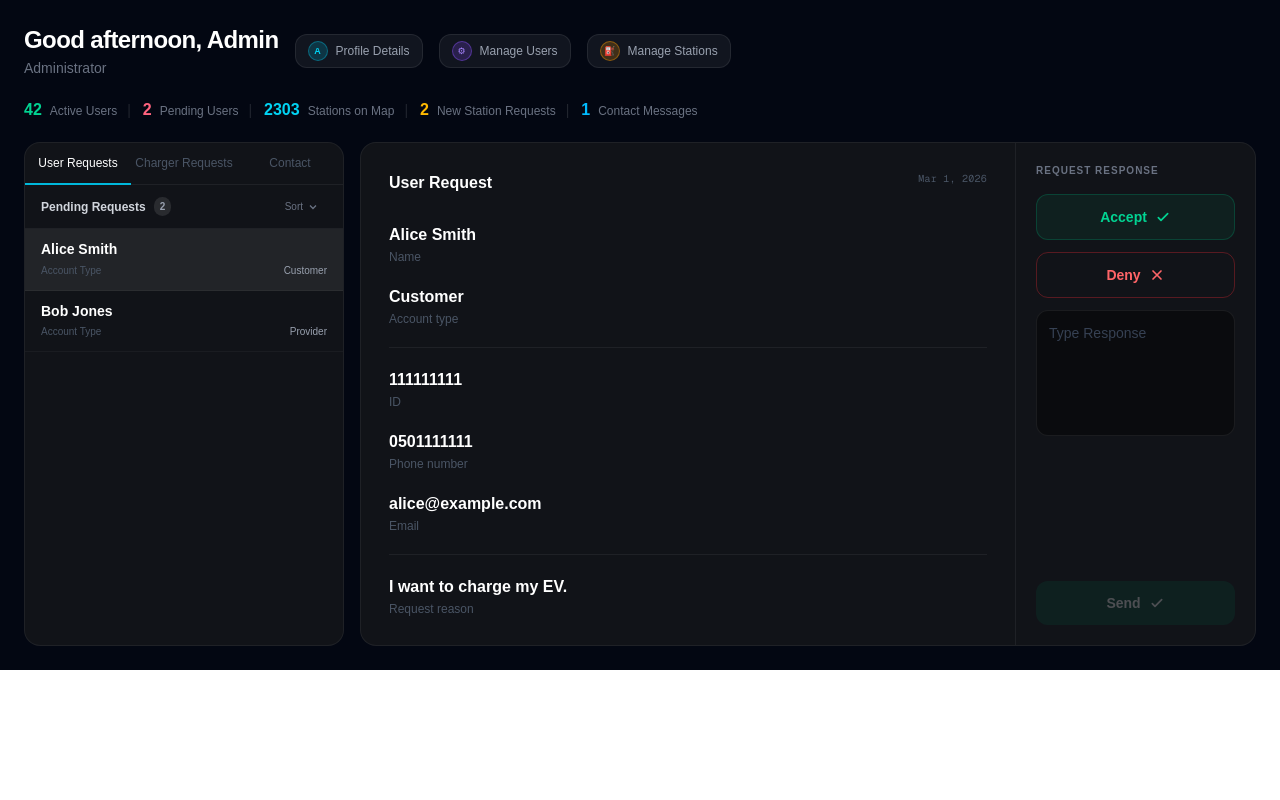
Test: user actions › Send button becomes enabled after clicking Accept
Click the button "Accept" at coordinates (1136, 217), box [1036, 194, 1235, 240]
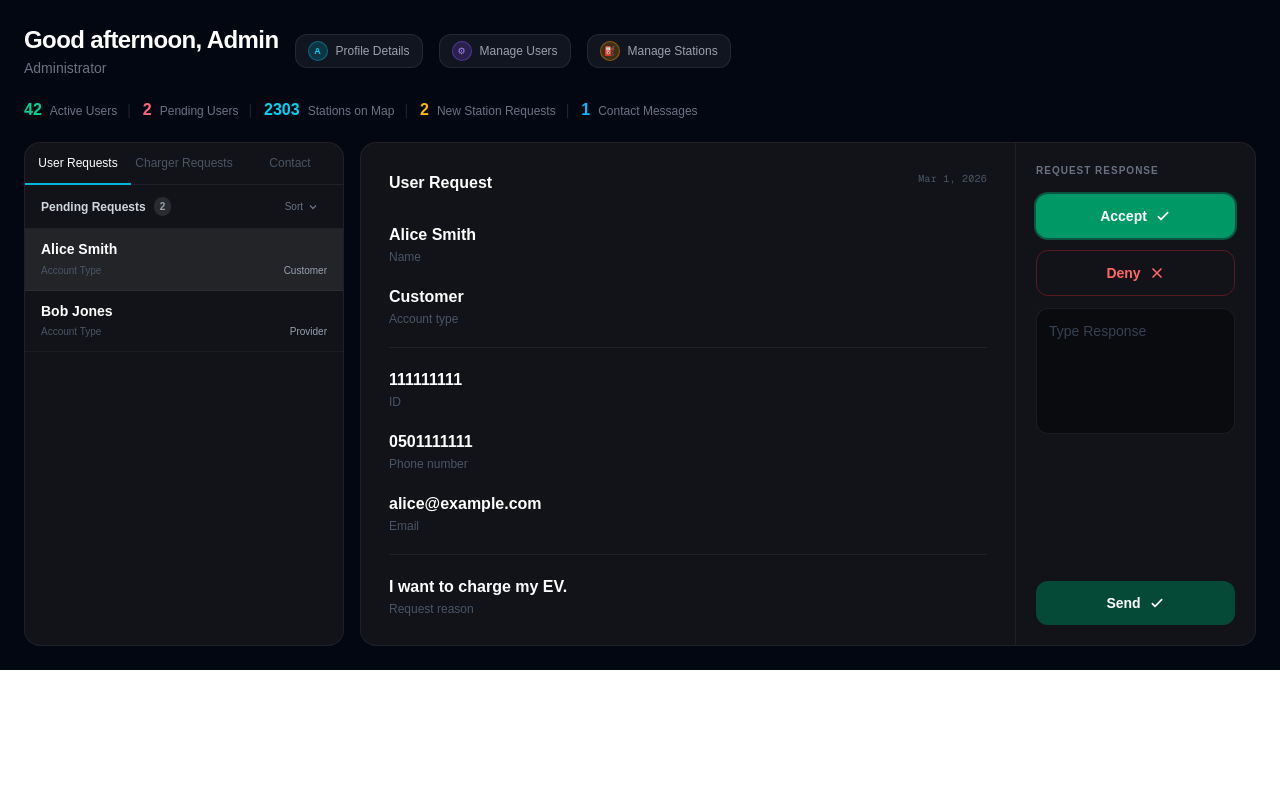
Check: the button "Send" is enabled, box [1036, 581, 1235, 625]
